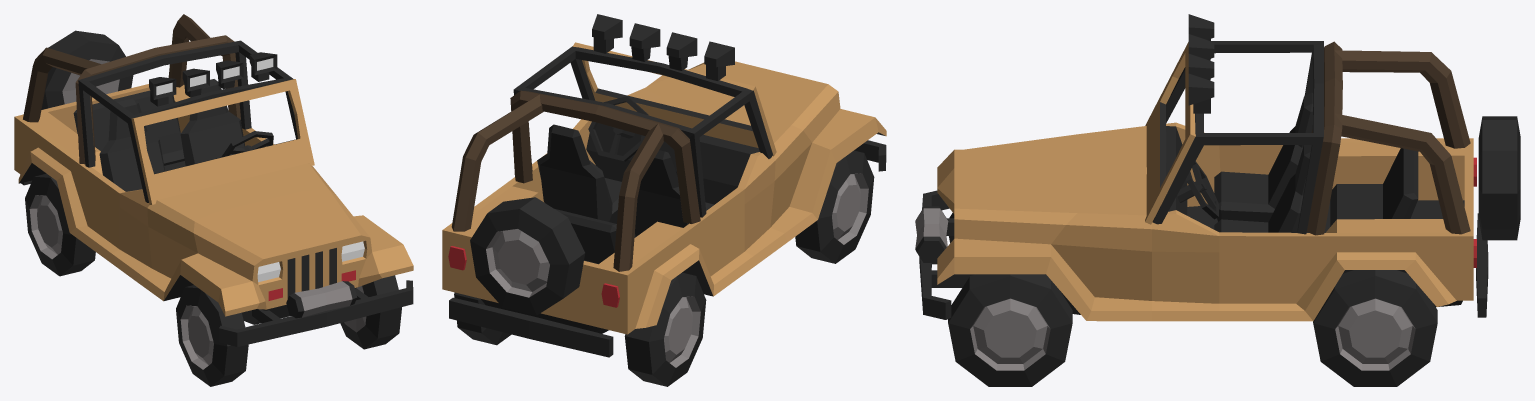
File: jeep-open.glb
3 views of the same model, side by side, from view 1: azimuth 30°, elevation 25°; view 2: azimuth 150°, elevation 25°; view 3: azimuth 270°, elevation 25° (orthographic). The views are drawn at different scales.
Parts seen in each view (by area): view 1: jeep-open-base, jeep-open-wheel_FR, jeep-open-wheel_BL, jeep-open-wheel_FL; view 2: jeep-open-base, jeep-open-wheel_BL, jeep-open-wheel_FR, jeep-open-wheel_BR; view 3: jeep-open-base, jeep-open-wheel_FL, jeep-open-wheel_BR.
Boxes of the visible parts, left/top/right/bottom form: jeep-open-base: left=14, top=14, right=413, bottom=346; jeep-open-wheel_FR: left=176, top=285, right=248, bottom=386; jeep-open-wheel_BL: left=25, top=173, right=95, bottom=276; jeep-open-wheel_FL: left=340, top=275, right=401, bottom=349; jeep-open-base: left=442, top=14, right=886, bottom=357; jeep-open-wheel_BL: left=624, top=272, right=706, bottom=386; jeep-open-wheel_FR: left=795, top=150, right=874, bottom=263; jeep-open-wheel_BR: left=454, top=292, right=511, bottom=345; jeep-open-base: left=915, top=14, right=1520, bottom=321; jeep-open-wheel_FL: left=948, top=274, right=1072, bottom=386; jeep-open-wheel_BR: left=1313, top=270, right=1437, bottom=386.
Bounding box in the file's own units: 1.83 × 2.12 × 4.09.
1 material, 1 textured.
